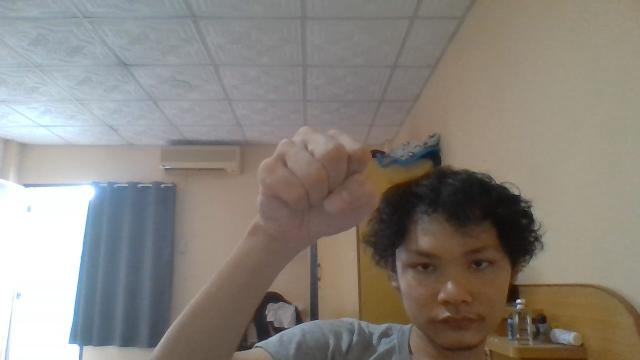forward: (256, 125, 380, 249)
